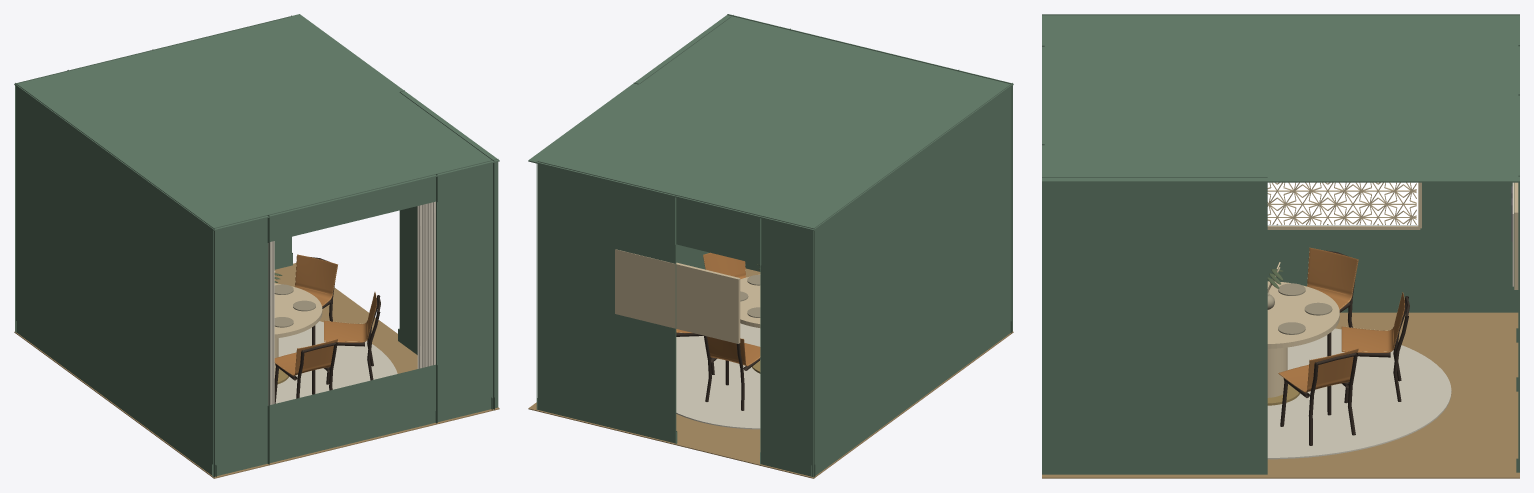
Rendered from dining-1.glb.
The picture shows the model from 3 angles, left to right: view 1: azimuth 30°, elevation 25°; view 2: azimuth 150°, elevation 25°; view 3: azimuth 270°, elevation 25°; orthographic projection. The views are drawn at different scales.
Parts seen in each view (by area): view 1: DESIGN | dining removable wall finish, DESIGN | dining ceiling finish, DESIGN | dining floor finish, DESIGN | Dining ground, DESIGN | Dining linen edge.001, DESIGN | Required Isadora dining chair 5, DESIGN | Required Isadora dining chair 1, DESIGN | Required Isadora dining chair 6, DESIGN | Dining table top, DESIGN | Dining linen edge; view 2: DESIGN | dining removable wall finish, DESIGN | dining ceiling finish, DESIGN | Quiet artwork frame.001, DESIGN | Dining ground, DESIGN | dining floor finish, DESIGN | Required Isadora dining chair 2, DESIGN | Required Isadora dining chair 6, DESIGN | Dining table top; view 3: DESIGN | dining removable wall finish, DESIGN | dining ceiling finish, DESIGN | dining floor finish, DESIGN | Dining ground, DESIGN | Dining long craft screen diffuse backing, DESIGN | Kumiko | Dining long craft screen, DESIGN | Dining table top, DESIGN | Required Isadora dining chair 1, DESIGN | Required Isadora dining chair 3, DESIGN | Required Isadora dining chair 2, DESIGN | Dining table pedestal, DESIGN | Quiet artwork frame.001.
Part boxes in pixels (x1=…): DESIGN | dining removable wall finish: x1=15, y1=15, x2=498, y2=477; DESIGN | dining ceiling finish: x1=14, y1=14, x2=499, y2=230; DESIGN | dining floor finish: x1=14, y1=263, x2=499, y2=478; DESIGN | Dining ground: x1=275, y1=321, x2=397, y2=403; DESIGN | Dining linen edge.001: x1=417, y1=201, x2=435, y2=368; DESIGN | Required Isadora dining chair 5: x1=274, y1=338, x2=337, y2=403; DESIGN | Required Isadora dining chair 1: x1=295, y1=254, x2=337, y2=345; DESIGN | Required Isadora dining chair 6: x1=324, y1=292, x2=380, y2=384; DESIGN | Dining table top: x1=274, y1=283, x2=322, y2=338; DESIGN | Dining linen edge: x1=268, y1=241, x2=274, y2=405; DESIGN | dining removable wall finish: x1=536, y1=14, x2=1012, y2=477; DESIGN | dining ceiling finish: x1=528, y1=14, x2=1013, y2=230; DESIGN | Quiet artwork frame.001: x1=615, y1=249, x2=740, y2=343; DESIGN | Dining ground: x1=676, y1=323, x2=760, y2=429; DESIGN | dining floor finish: x1=528, y1=268, x2=1013, y2=478; DESIGN | Required Isadora dining chair 2: x1=704, y1=335, x2=760, y2=410; DESIGN | Required Isadora dining chair 6: x1=703, y1=252, x2=746, y2=279; DESIGN | Dining table top: x1=740, y1=274, x2=760, y2=327; DESIGN | dining removable wall finish: x1=1042, y1=14, x2=1519, y2=474; DESIGN | dining ceiling finish: x1=1042, y1=15, x2=1519, y2=182; DESIGN | dining floor finish: x1=1042, y1=312, x2=1519, y2=478; DESIGN | Dining ground: x1=1267, y1=328, x2=1451, y2=459; DESIGN | Dining long craft screen diffuse backing: x1=1267, y1=182, x2=1418, y2=225; DESIGN | Kumiko | Dining long craft screen: x1=1267, y1=182, x2=1421, y2=229; DESIGN | Dining table top: x1=1267, y1=281, x2=1339, y2=348; DESIGN | Required Isadora dining chair 1: x1=1278, y1=348, x2=1358, y2=445; DESIGN | Required Isadora dining chair 3: x1=1307, y1=247, x2=1358, y2=356; DESIGN | Required Isadora dining chair 2: x1=1341, y1=292, x2=1409, y2=403; DESIGN | Dining table pedestal: x1=1267, y1=347, x2=1287, y2=397; DESIGN | Quiet artwork frame.001: x1=1514, y1=182, x2=1518, y2=289.
Bounding box in the file's own units: 3.28 × 2.74 × 3.98.
